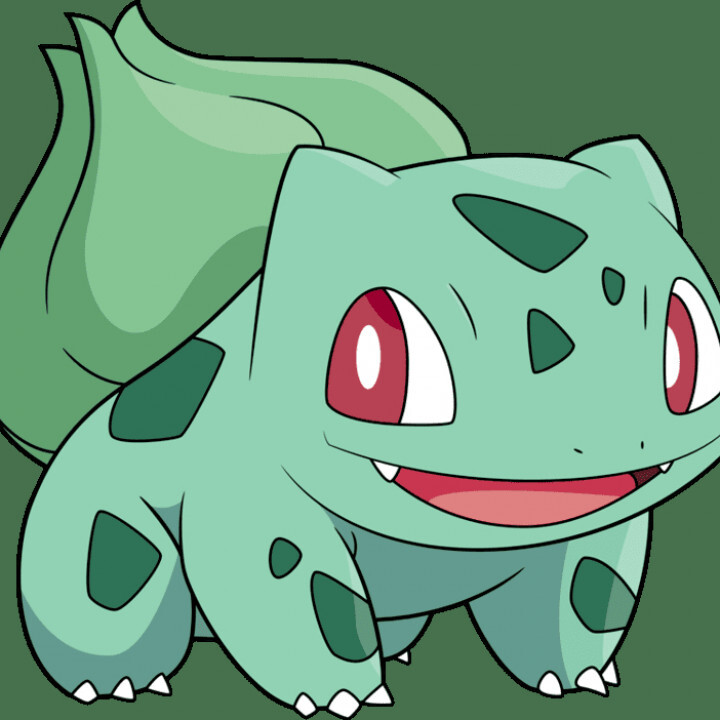001-bulbasaur: (9, 14, 712, 712)
